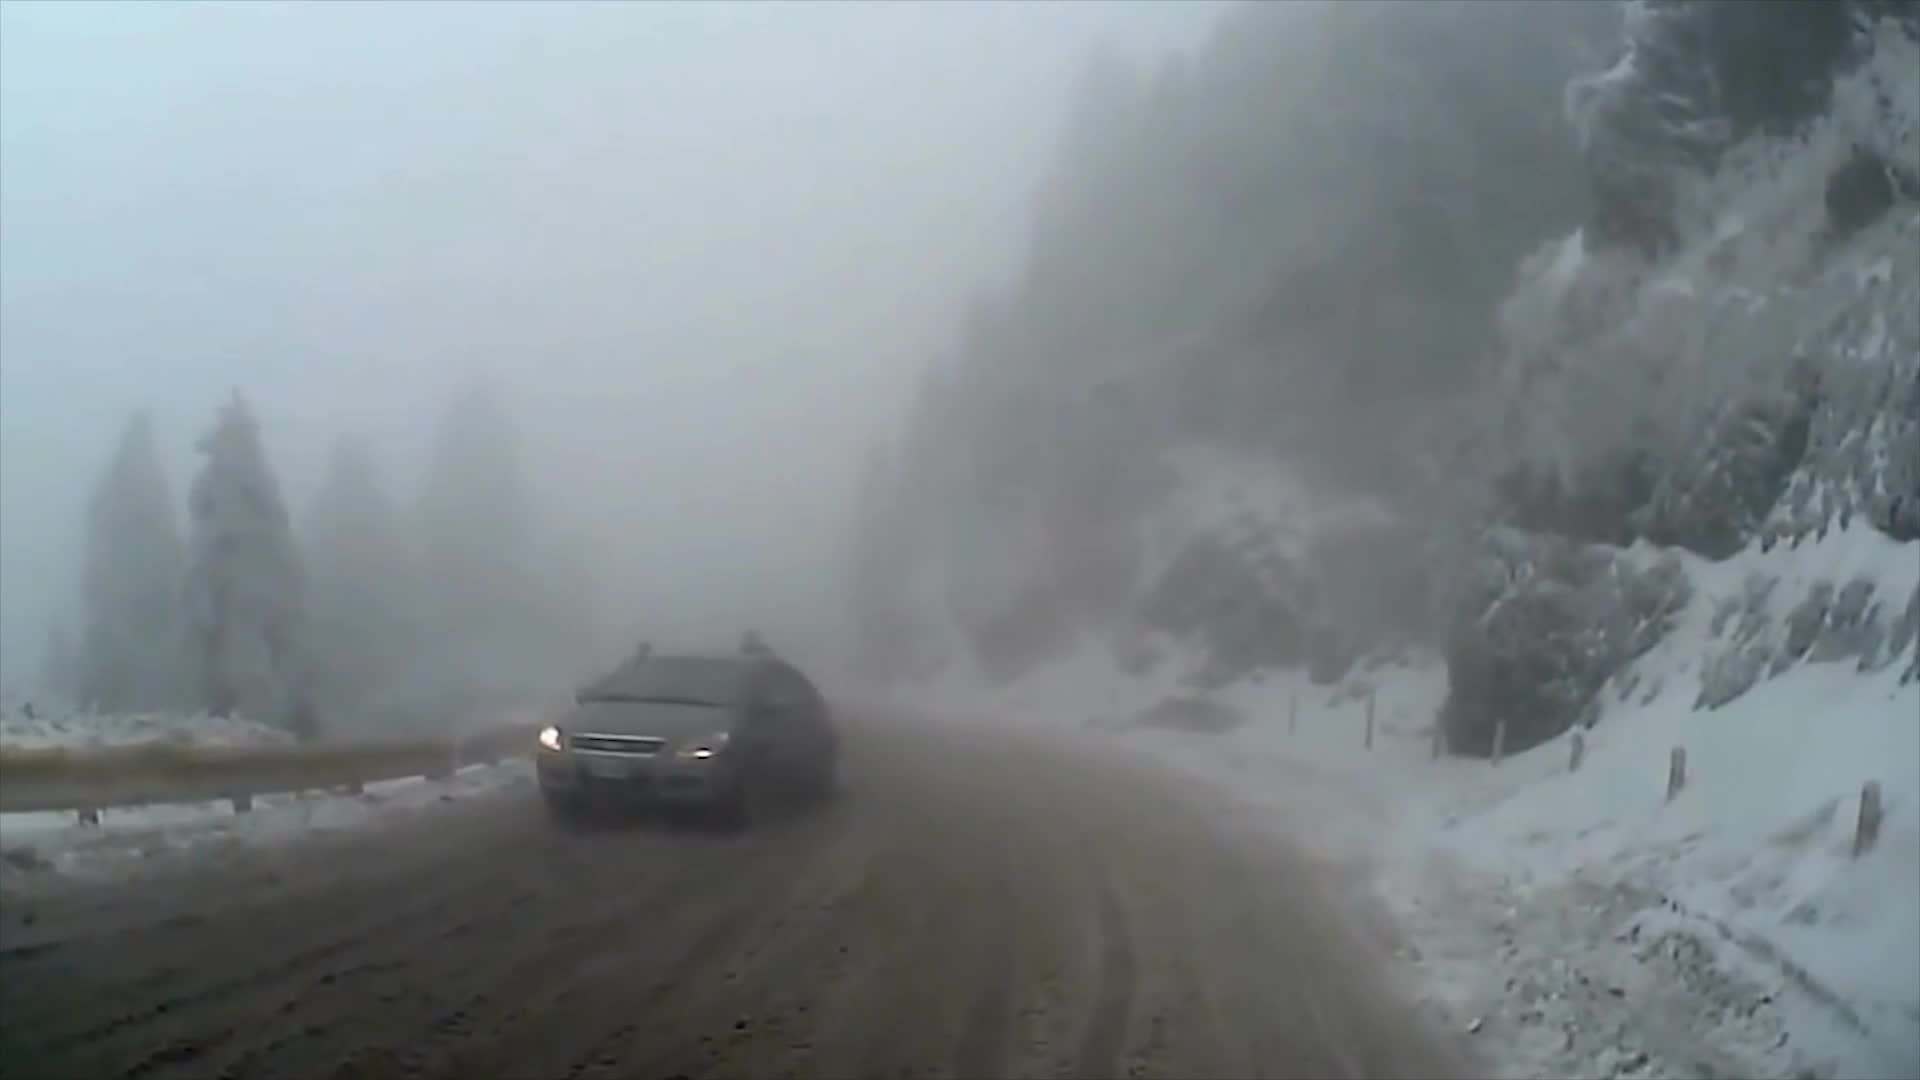vehicle: (534, 647, 837, 831)
